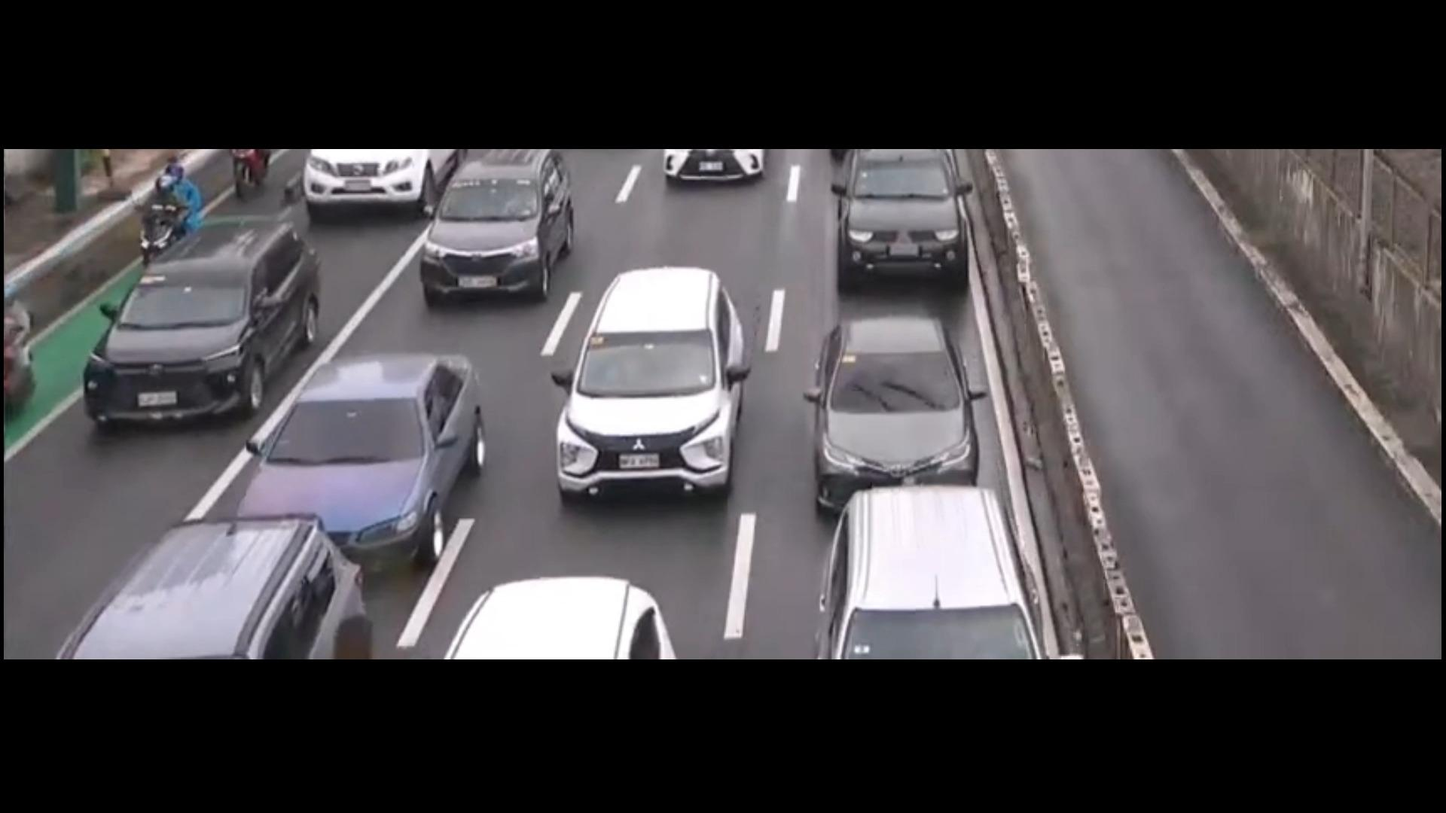Motorcycle: (137, 167, 202, 280)
SUV: (84, 221, 320, 423), (556, 266, 746, 501), (63, 515, 375, 658), (824, 487, 1047, 659), (419, 152, 566, 303), (304, 148, 456, 203)
Sedan: (232, 351, 482, 565), (815, 315, 978, 510)
